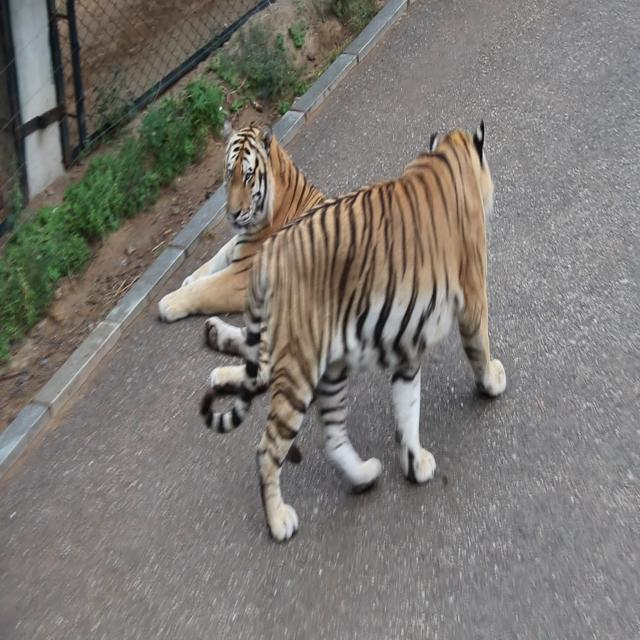Tiger: (189, 113, 530, 550), (137, 104, 336, 324)
